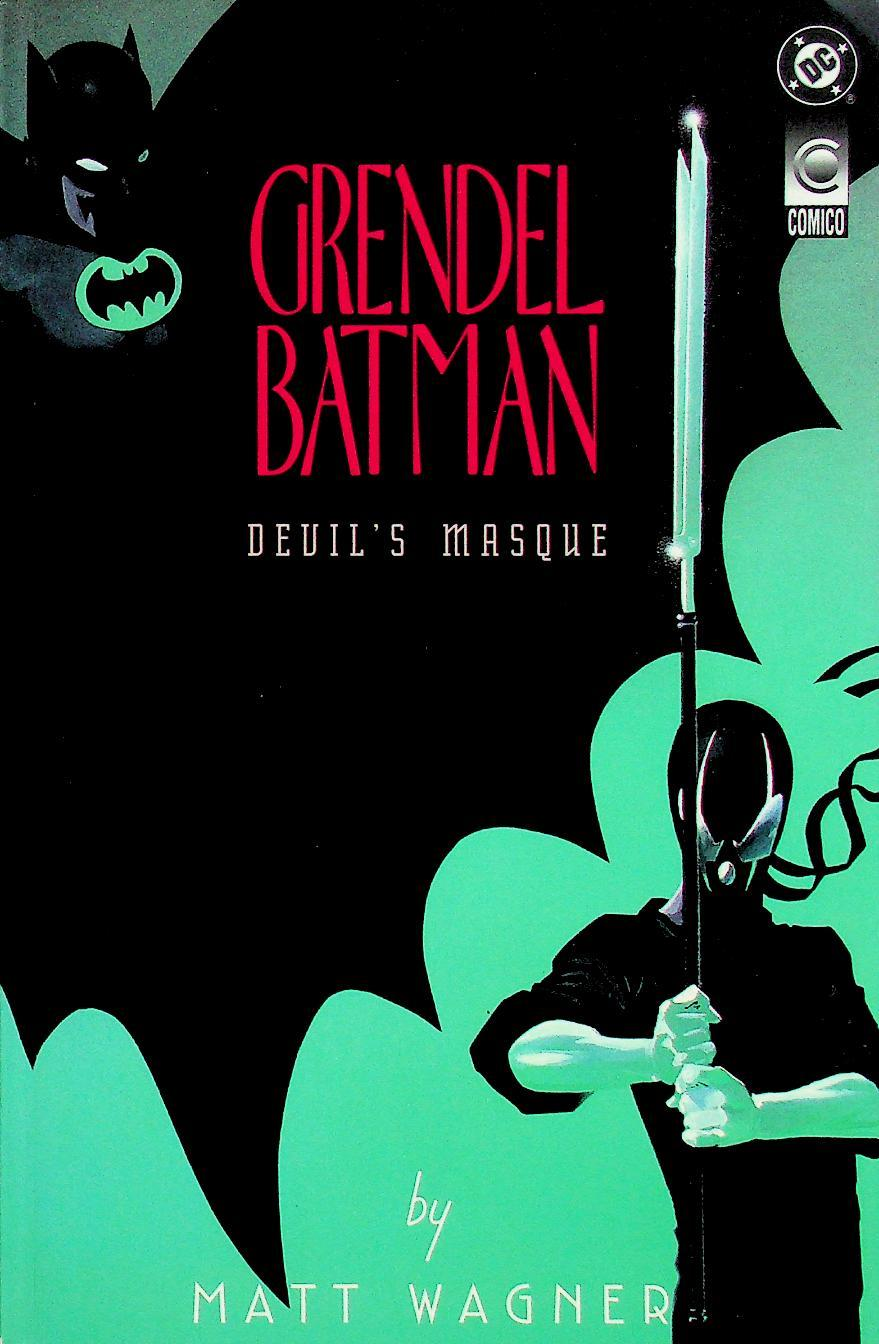comic: (0, 0, 876, 1343)
